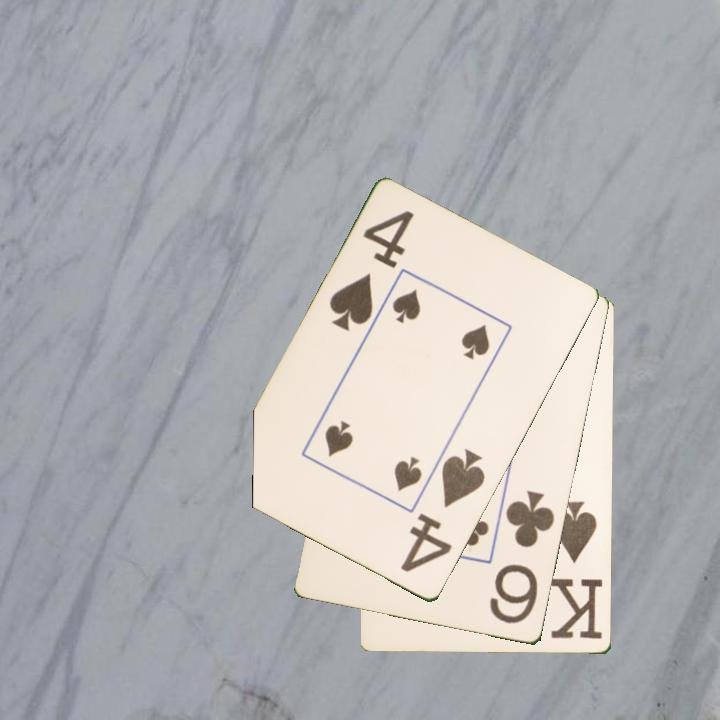4s: (397, 446, 489, 576), (325, 207, 417, 335)
6c: (486, 487, 558, 628)
Ks: (549, 498, 606, 643)
